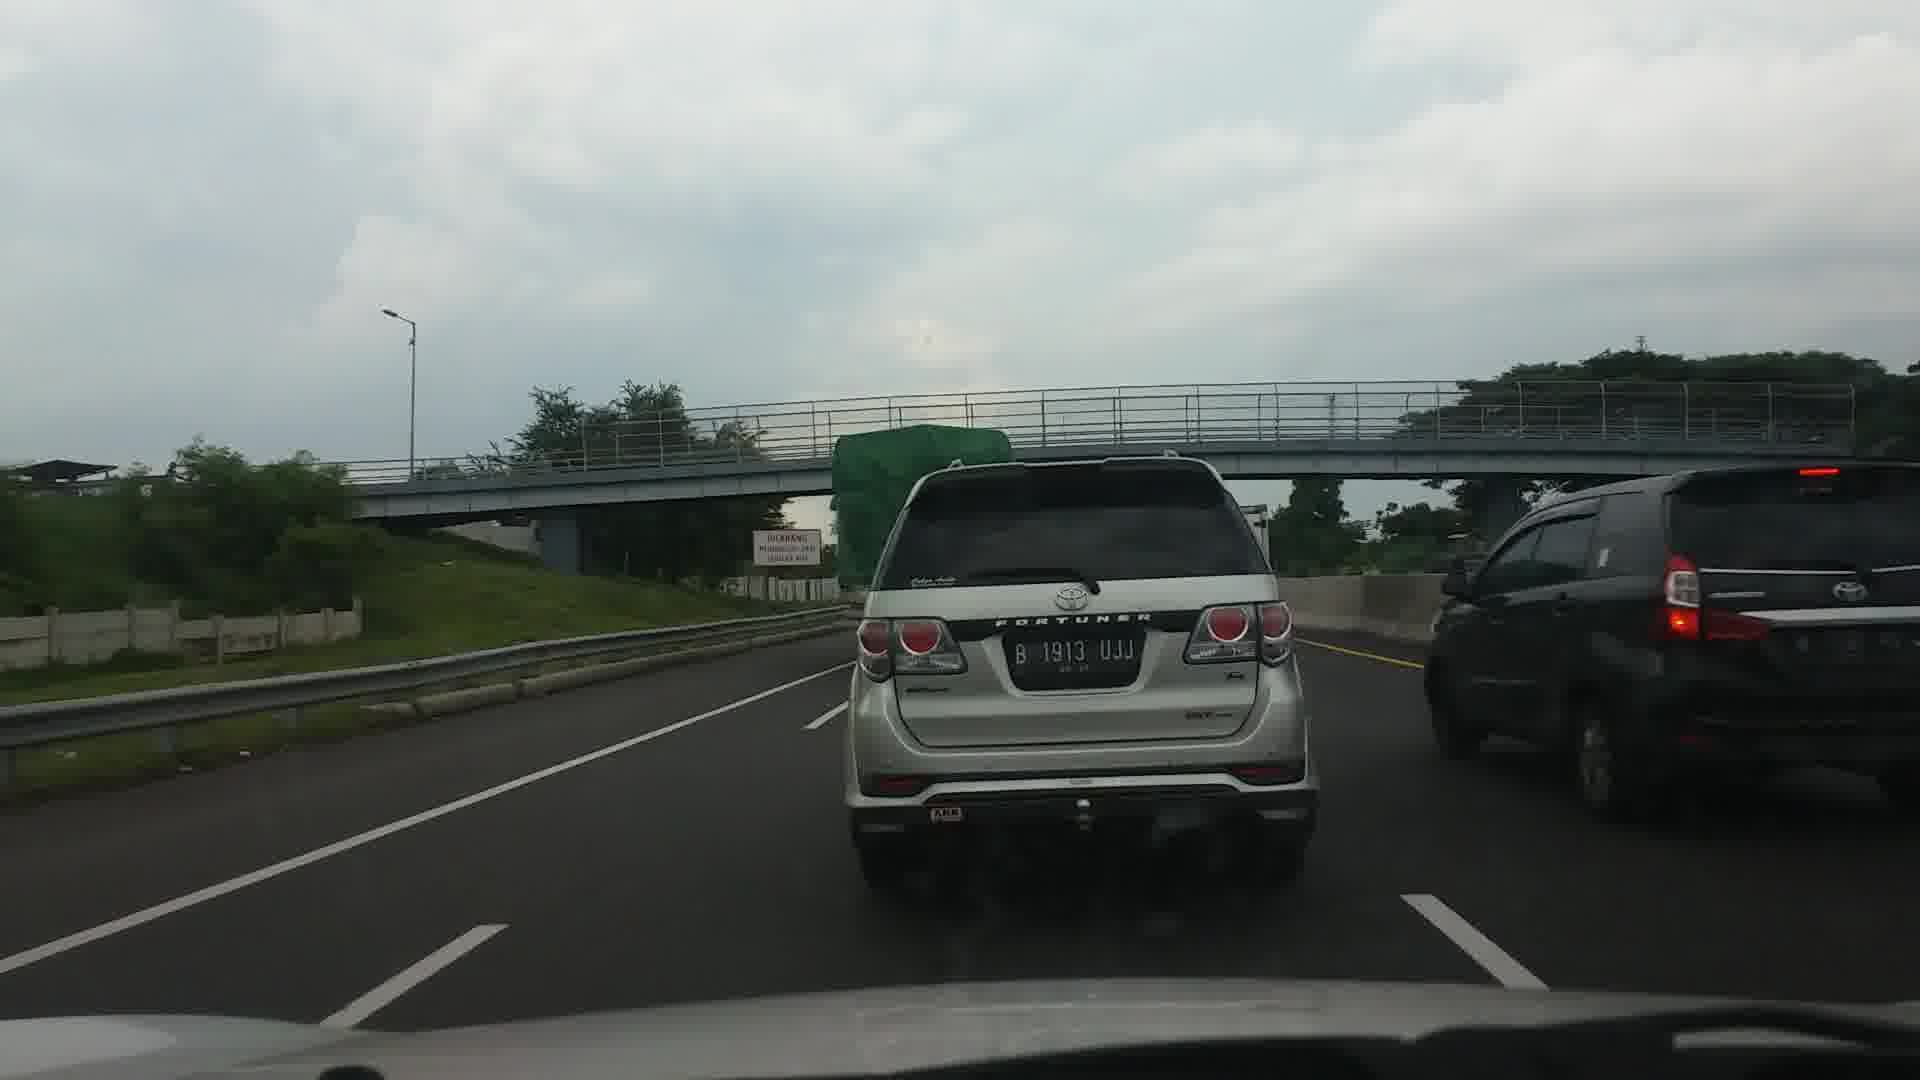plate_positive: (1011, 637, 1138, 674)
